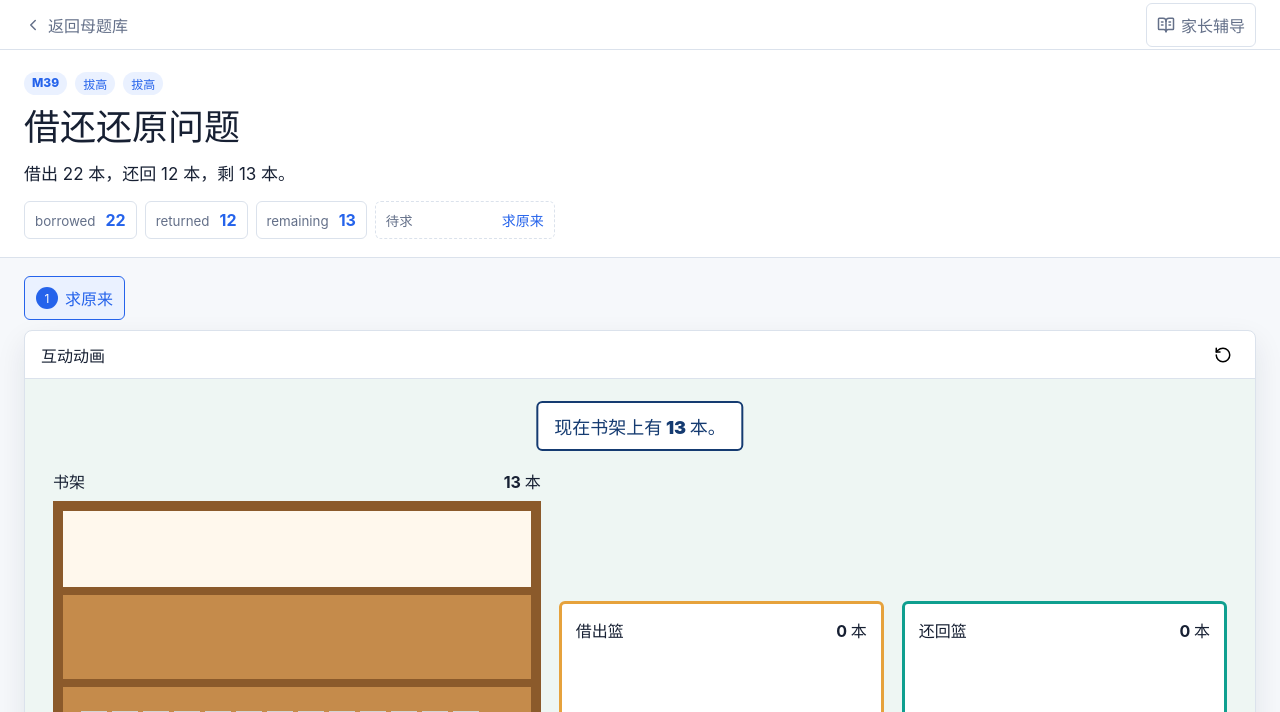
Test case: LessonView › renders the selected problem and opens the parent coach
Check: the heading "借还还原问题" is shown, box [24,105,240,149]
What coordinates should you click on to do the following:
click the button with aria-label "打开家长辅导"
I would click on:
 (1201, 24)
Its box is [1146,2,1256,46].
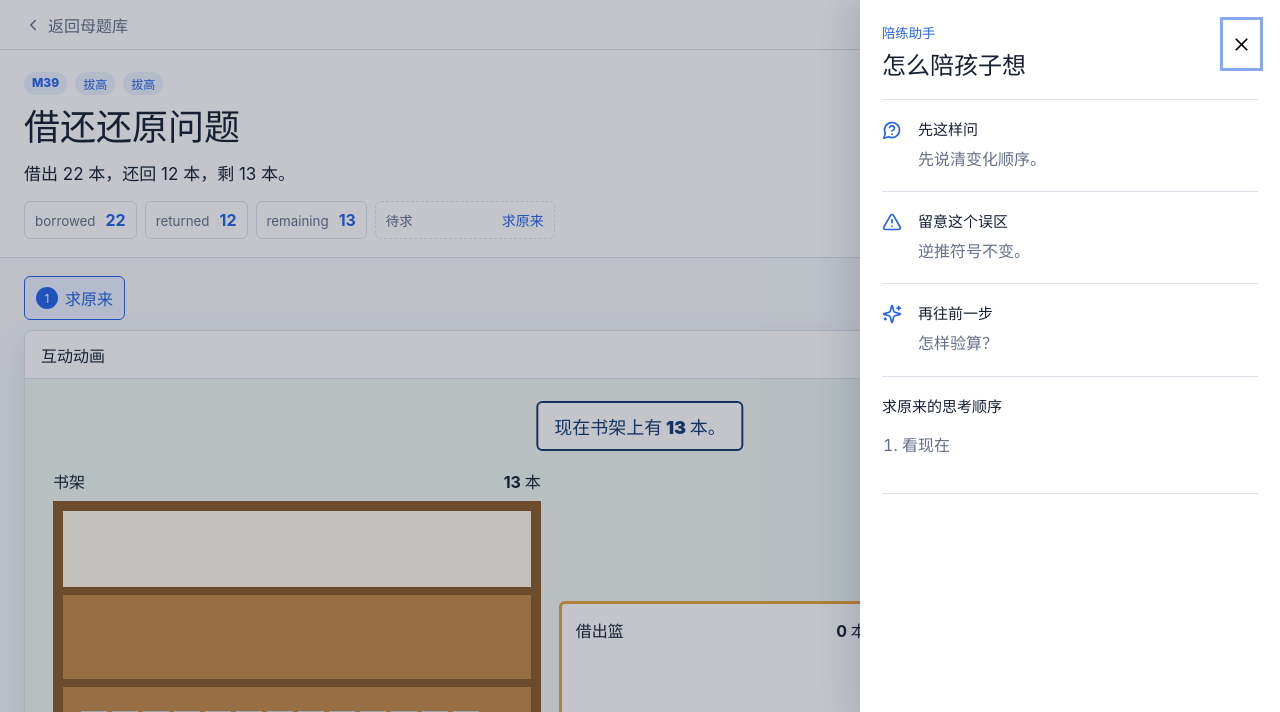
Check: the dialog shows "先说清变化顺序", box [918,149,1046,169]
